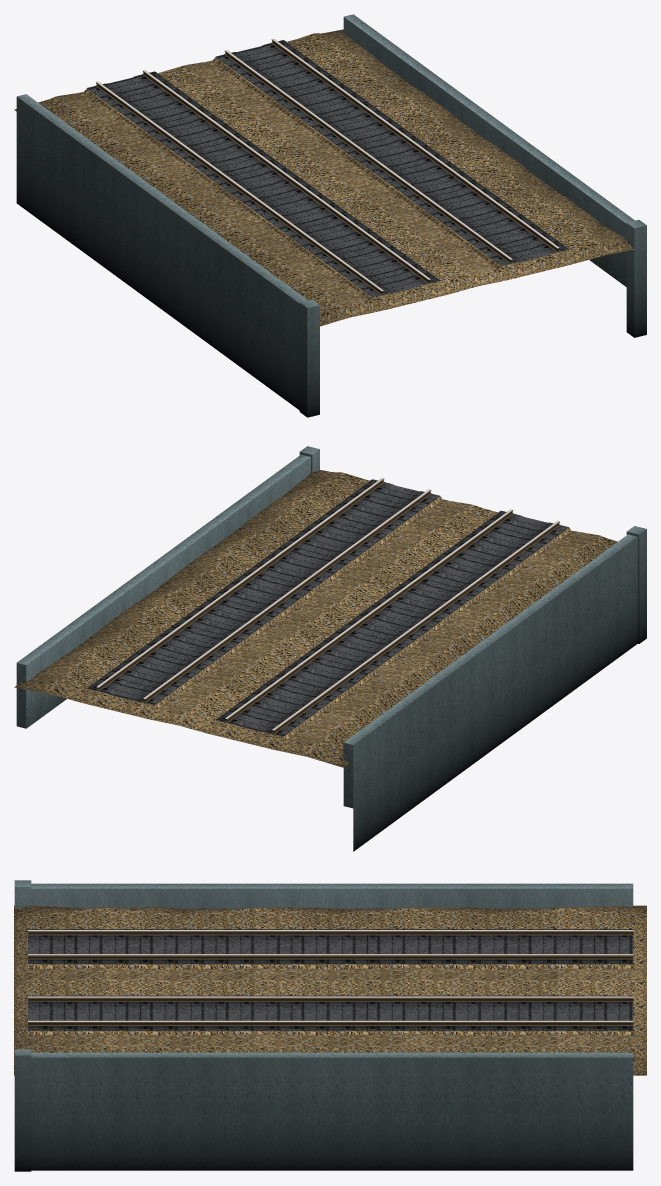
The model's file is HT_RAIL50_JARI.glb.
3 renders of one model, top to bottom at view 1: azimuth 30°, elevation 25°; view 2: azimuth 150°, elevation 25°; view 3: azimuth 270°, elevation 25°, orthographic. The views are drawn at different scales.
Visible parts, largest first — view 1: obj6, last; view 2: obj6, last; view 3: obj6, last.
Part boxes in pixels (x1=…): obj6: x1=14, y1=14, x2=641, y2=410; last: x1=299, y1=220, x2=646, y2=417; obj6: x1=14, y1=454, x2=637, y2=851; last: x1=299, y1=446, x2=646, y2=643; obj6: x1=14, y1=883, x2=646, y2=1170; last: x1=14, y1=880, x2=31, y2=1171.
Size of the model in its own units: 34.26 by 10.56 by 52.26.
6 materials, 5 textured.
